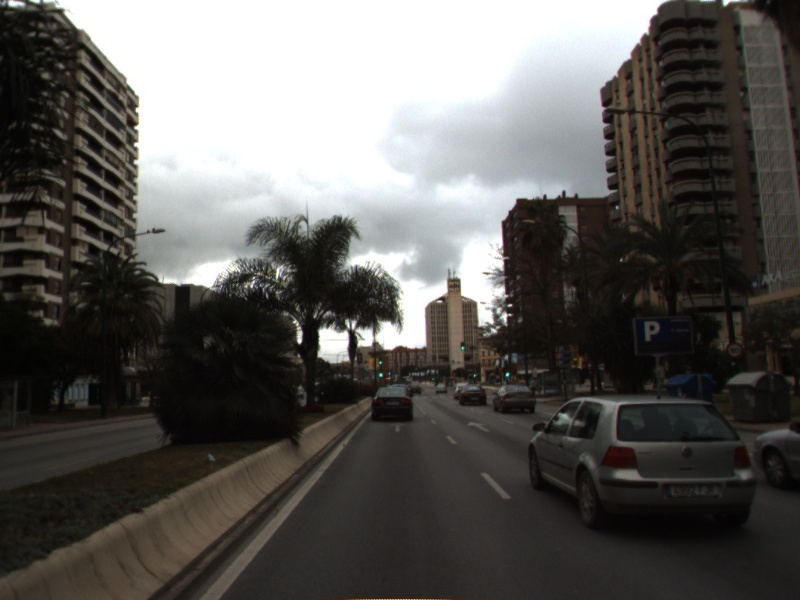STRAIGHT: (465, 419, 492, 434), (387, 421, 410, 434)
